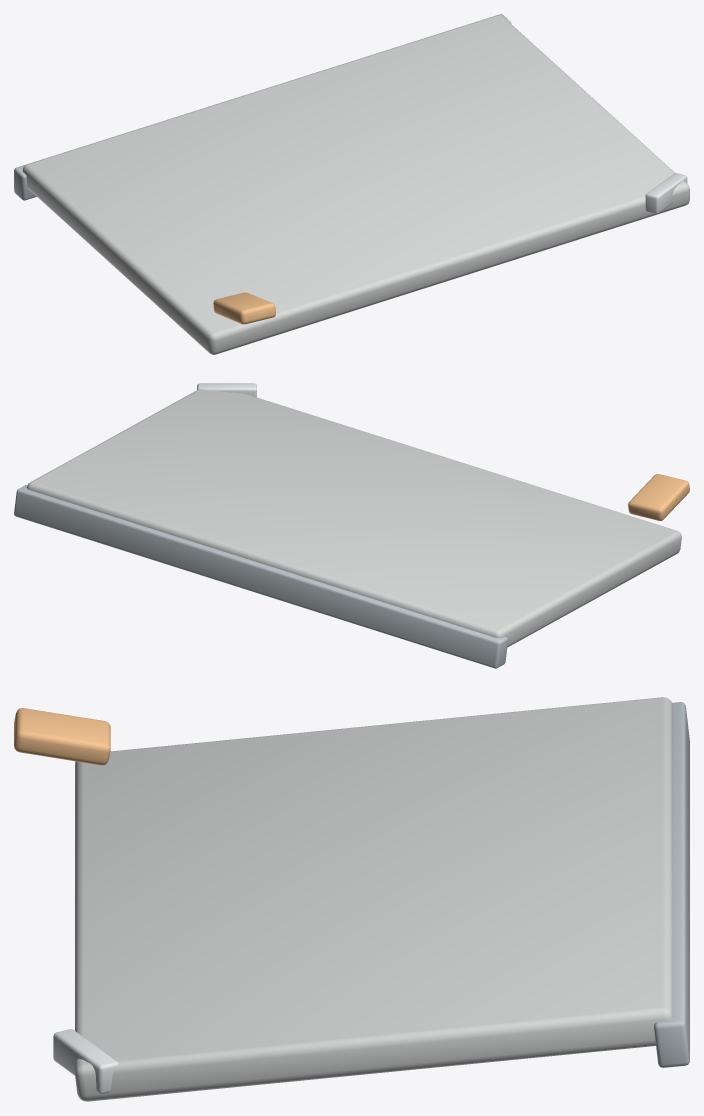
Rendered from debris_lid.glb.
The picture shows the model from 3 angles, top to bottom: view 1: azimuth 30°, elevation 25°; view 2: azimuth 150°, elevation 25°; view 3: azimuth 270°, elevation 25°; orthographic projection. The views are drawn at different scales.
Visible parts, largest first — view 1: lid_panel_shell_white, latch_handle_orange, torn_bracket_trim_steel; view 2: lid_panel_shell_white, lid_rim_frame_dark_alloy, latch_handle_orange, torn_bracket_trim_steel; view 3: lid_panel_shell_white, lid_rim_frame_dark_alloy, latch_handle_orange, torn_bracket_trim_steel.
Boxes of the visible parts, x1,y1,x2,y2 form: lid_panel_shell_white: [22, 15, 689, 354]; latch_handle_orange: [213, 292, 275, 324]; torn_bracket_trim_steel: [645, 173, 687, 213]; lid_panel_shell_white: [26, 389, 681, 647]; lid_rim_frame_dark_alloy: [14, 485, 508, 668]; latch_handle_orange: [628, 474, 689, 520]; torn_bracket_trim_steel: [197, 383, 256, 397]; lid_panel_shell_white: [75, 697, 673, 1101]; lid_rim_frame_dark_alloy: [654, 702, 689, 1067]; latch_handle_orange: [14, 708, 110, 765]; torn_bracket_trim_steel: [53, 1029, 118, 1094].
Size of the model in its own units: 1.12 by 0.2004 by 0.8427.
